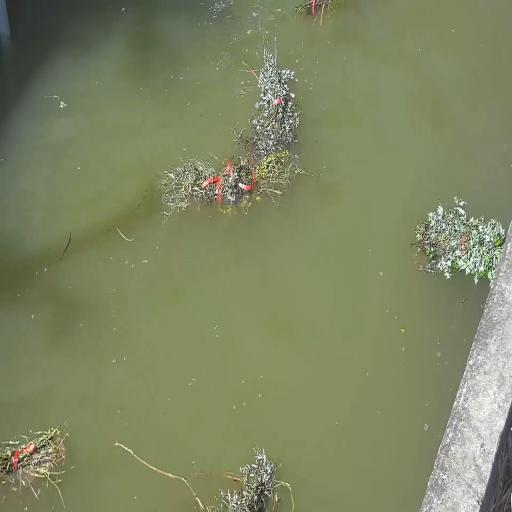twig: (162, 148, 299, 217), (414, 196, 507, 283), (242, 34, 300, 158), (198, 441, 293, 511), (0, 422, 71, 508), (295, 0, 338, 25)
